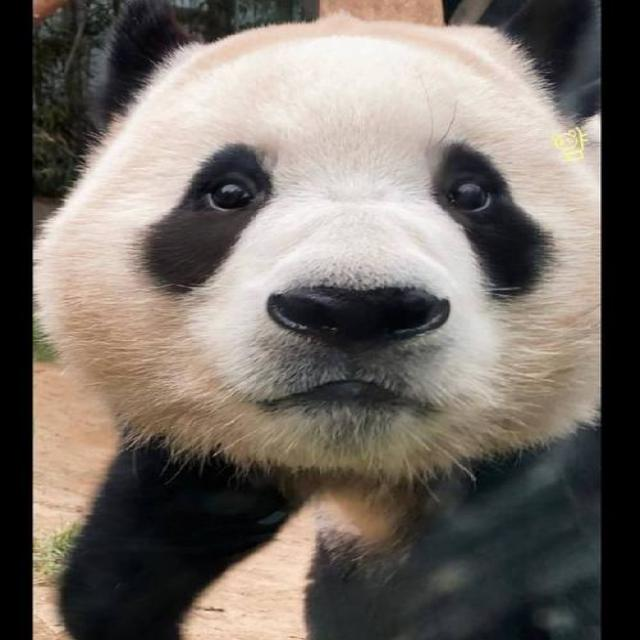panda: (42, 18, 611, 595)
